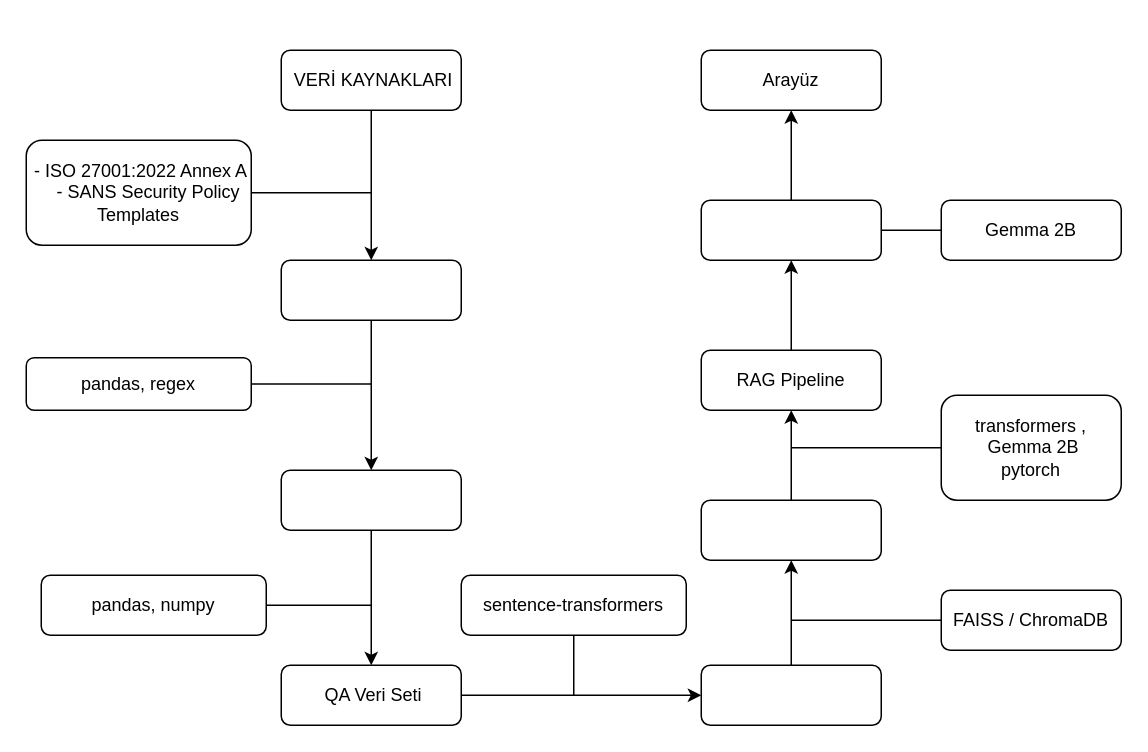
Some shapes in this 1148 by 752 pixel diagram are drawn without their labels. Here are the shapes that lost their labels. From the top down, the box of each, then its label:
(700, 199, 881, 260): Fine-Tuning
(280, 259, 461, 320): Metin Çıkarma & Temizleme
(280, 469, 461, 530): Chunking
(700, 499, 881, 560): Vektör Veritabanı
(700, 664, 881, 725): Embedding Oluşturma
